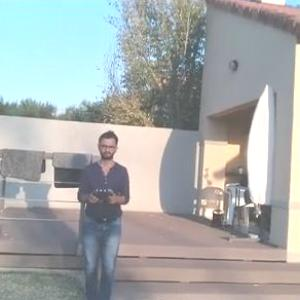follow: (72, 123, 133, 299)
